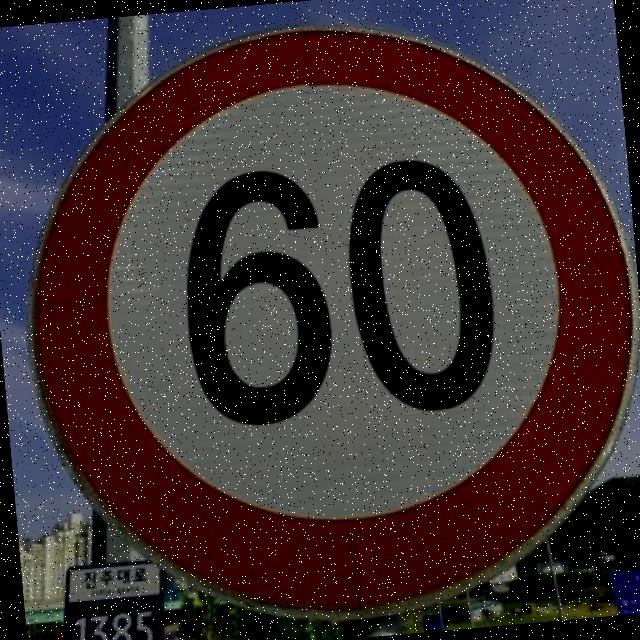Ograniczenie predkosci do 60: (7, 0, 640, 635)
